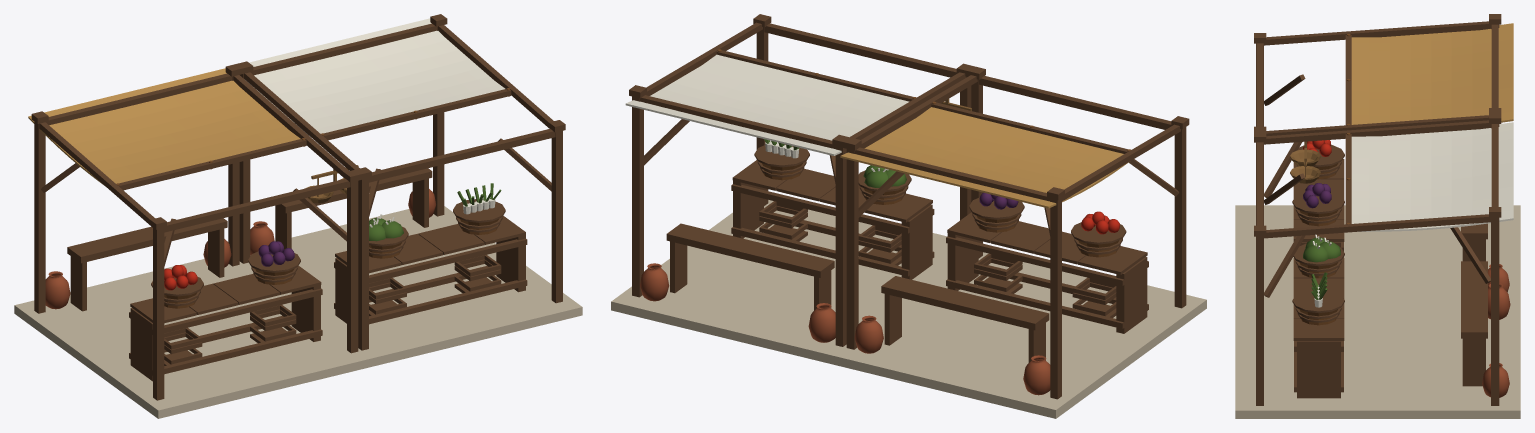
The model's file is rome_market_pair.glb.
3 renders of one model, left to right at view 1: azimuth 30°, elevation 25°; view 2: azimuth 150°, elevation 25°; view 3: azimuth 270°, elevation 25°, orthographic. The views are drawn at different scales.
Visible parts, largest first — view 1: rome_market_pair; view 2: rome_market_pair; view 3: rome_market_pair.
Part boxes in pixels (x1,y1,x2,y2): rome_market_pair: (14,14,582,418); rome_market_pair: (611,14,1206,418); rome_market_pair: (1235,14,1520,418).
Bounding box in the file's own units: 6.3 × 2.91 × 3.7.
